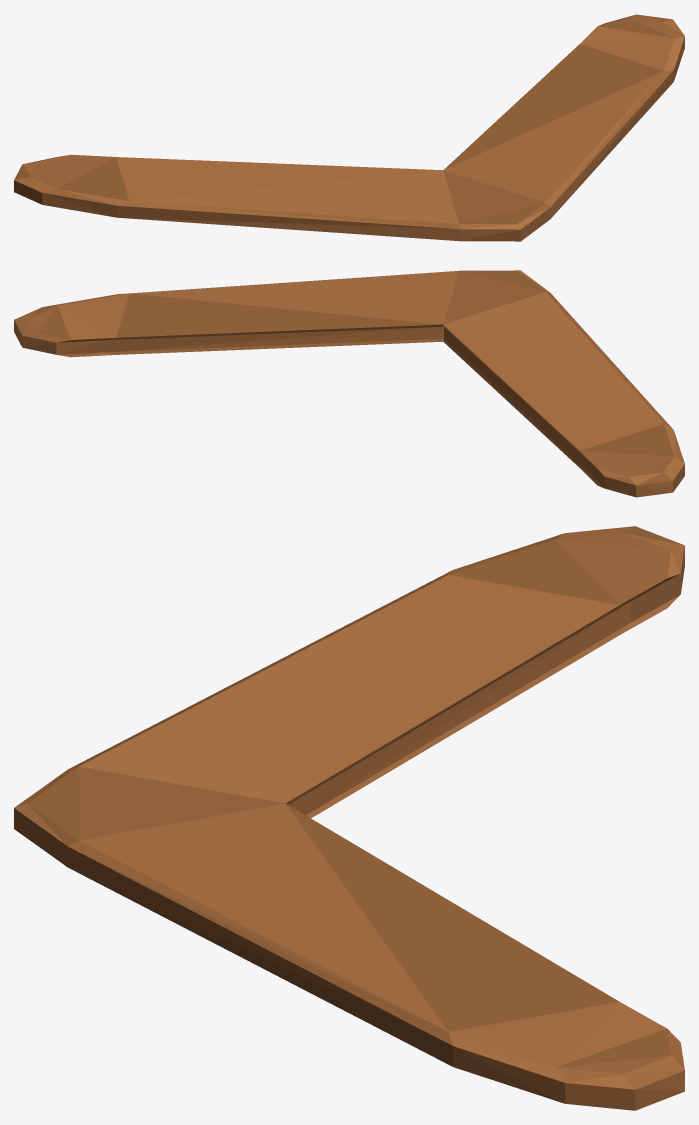
File: boomerang.glb
3 renders of one model, top to bottom at view 1: azimuth 30°, elevation 25°; view 2: azimuth 150°, elevation 25°; view 3: azimuth 270°, elevation 25°, orthographic. The views are drawn at different scales.
Visible parts, largest first — view 1: Boomerang • build123d; view 2: Boomerang • build123d; view 3: Boomerang • build123d.
Part boxes in pixels (x1,y1,x2,y2): Boomerang • build123d: (14, 14, 684, 241); Boomerang • build123d: (14, 270, 684, 497); Boomerang • build123d: (14, 526, 684, 1110).
Bounding box in the file's own units: 0.322 × 0.008 × 0.162.
